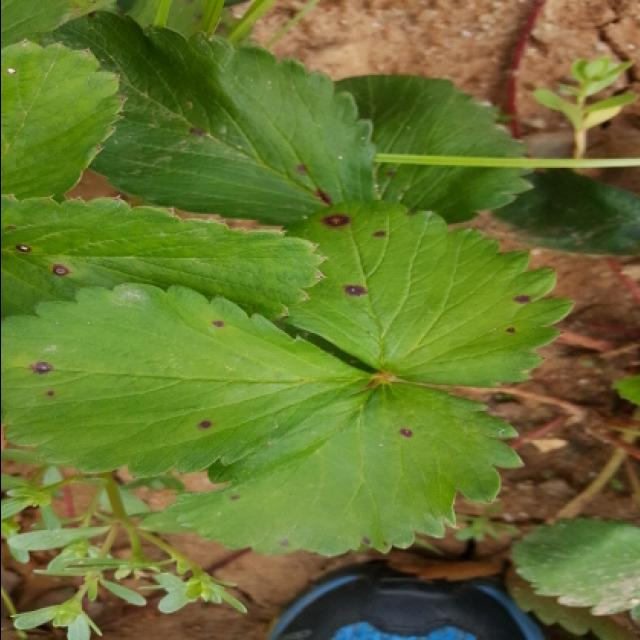Leaf Spot: (2, 280, 379, 480), (44, 10, 379, 229), (165, 378, 525, 556), (280, 200, 577, 387), (2, 193, 330, 325), (333, 74, 535, 225)
